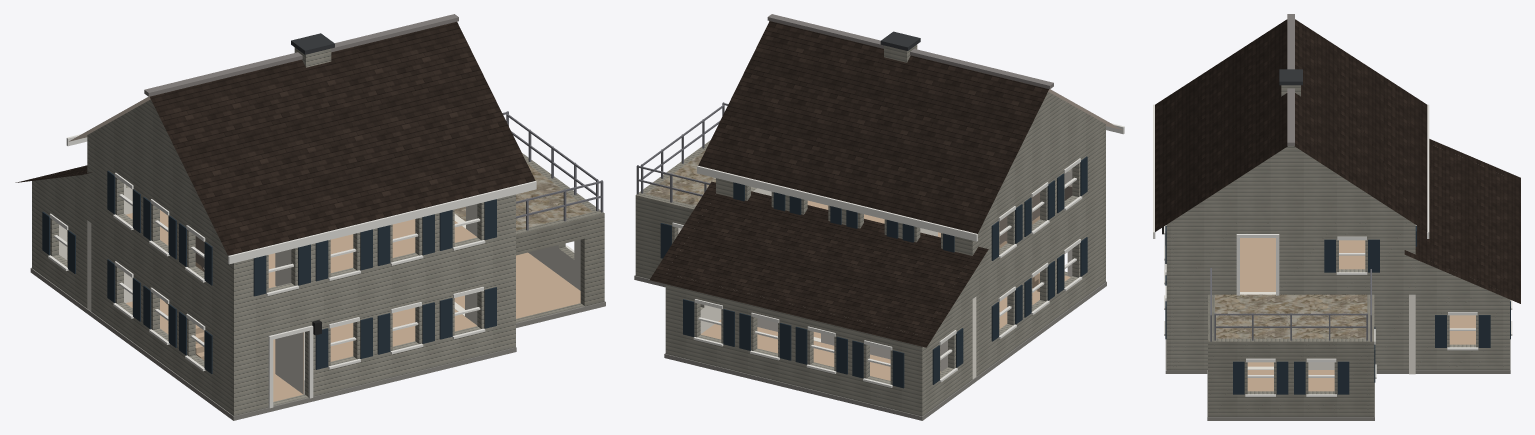
File: ns-saltbox.towns-v2.lod0.glb
The picture shows the model from 3 angles, left to right: view 1: azimuth 30°, elevation 25°; view 2: azimuth 150°, elevation 25°; view 3: azimuth 270°, elevation 25°; orthographic projection. The views are drawn at different scales.
Parts seen in each view (by area): view 1: ns-saltbox; view 2: ns-saltbox; view 3: ns-saltbox.
Boxes of the visible parts, x1,y1,x2,y2 form: ns-saltbox: (15,14,605,420); ns-saltbox: (634,14,1124,420); ns-saltbox: (1153,14,1520,420).
Size of the model in its own units: 14.59 by 9.75 by 13.29.
6 materials, 3 textured.
